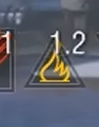1fire: (22, 59, 88, 91)
